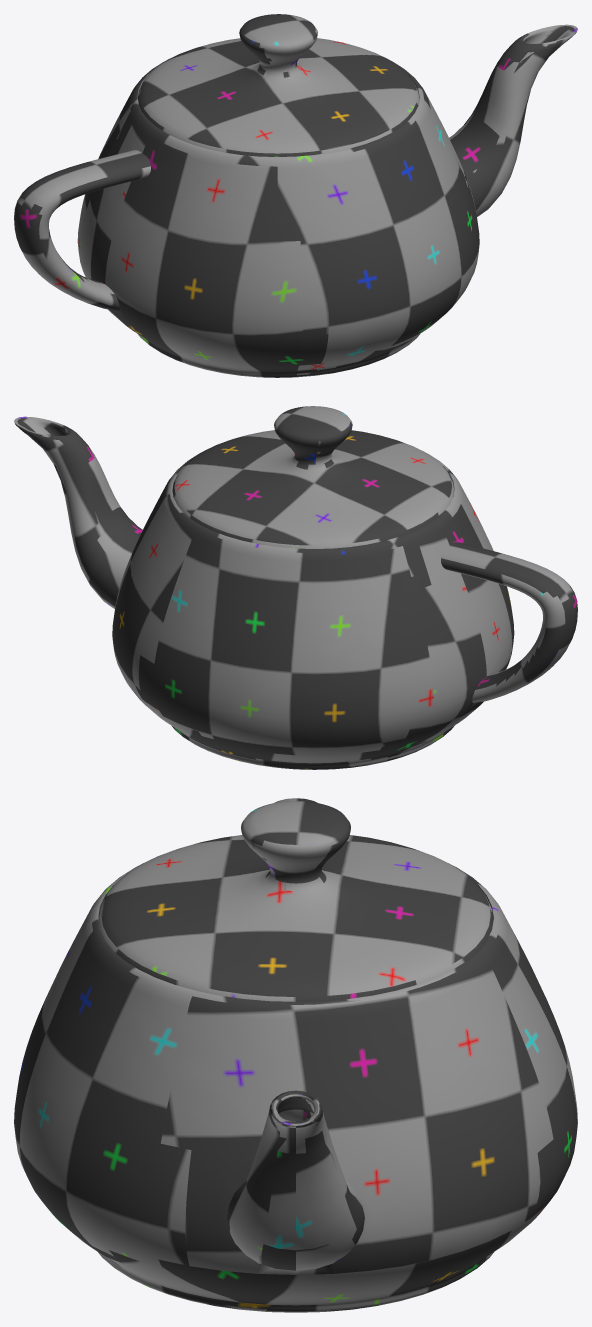
The model's file is teapot-binary-meshopt.glb.
The picture shows the model from 3 angles, top to bottom: view 1: azimuth 30°, elevation 25°; view 2: azimuth 150°, elevation 25°; view 3: azimuth 270°, elevation 25°; orthographic projection. The views are drawn at different scales.
Parts seen in each view (by area): view 1: Object_1, Object_0; view 2: Object_1, Object_0; view 3: Object_1, Object_0.
Part boxes in pixels (x1,y1,x2,y2): Object_1: (14, 24, 577, 377); Object_0: (138, 14, 419, 156); Object_1: (14, 416, 577, 769); Object_0: (172, 406, 453, 548); Object_1: (14, 798, 577, 1312); Object_0: (98, 801, 493, 1001).
Size of the model in its own units: 3.85 by 1.98 by 2.4.
1 material, 1 textured.
